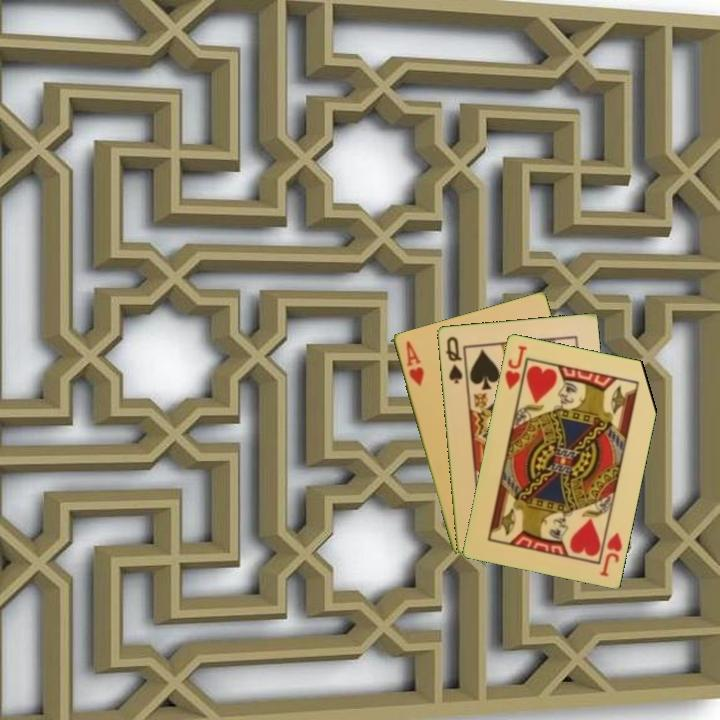Ah: (402, 337, 426, 389)
Jh: (596, 529, 625, 579), (501, 342, 529, 392)
Qs: (442, 333, 465, 386)
